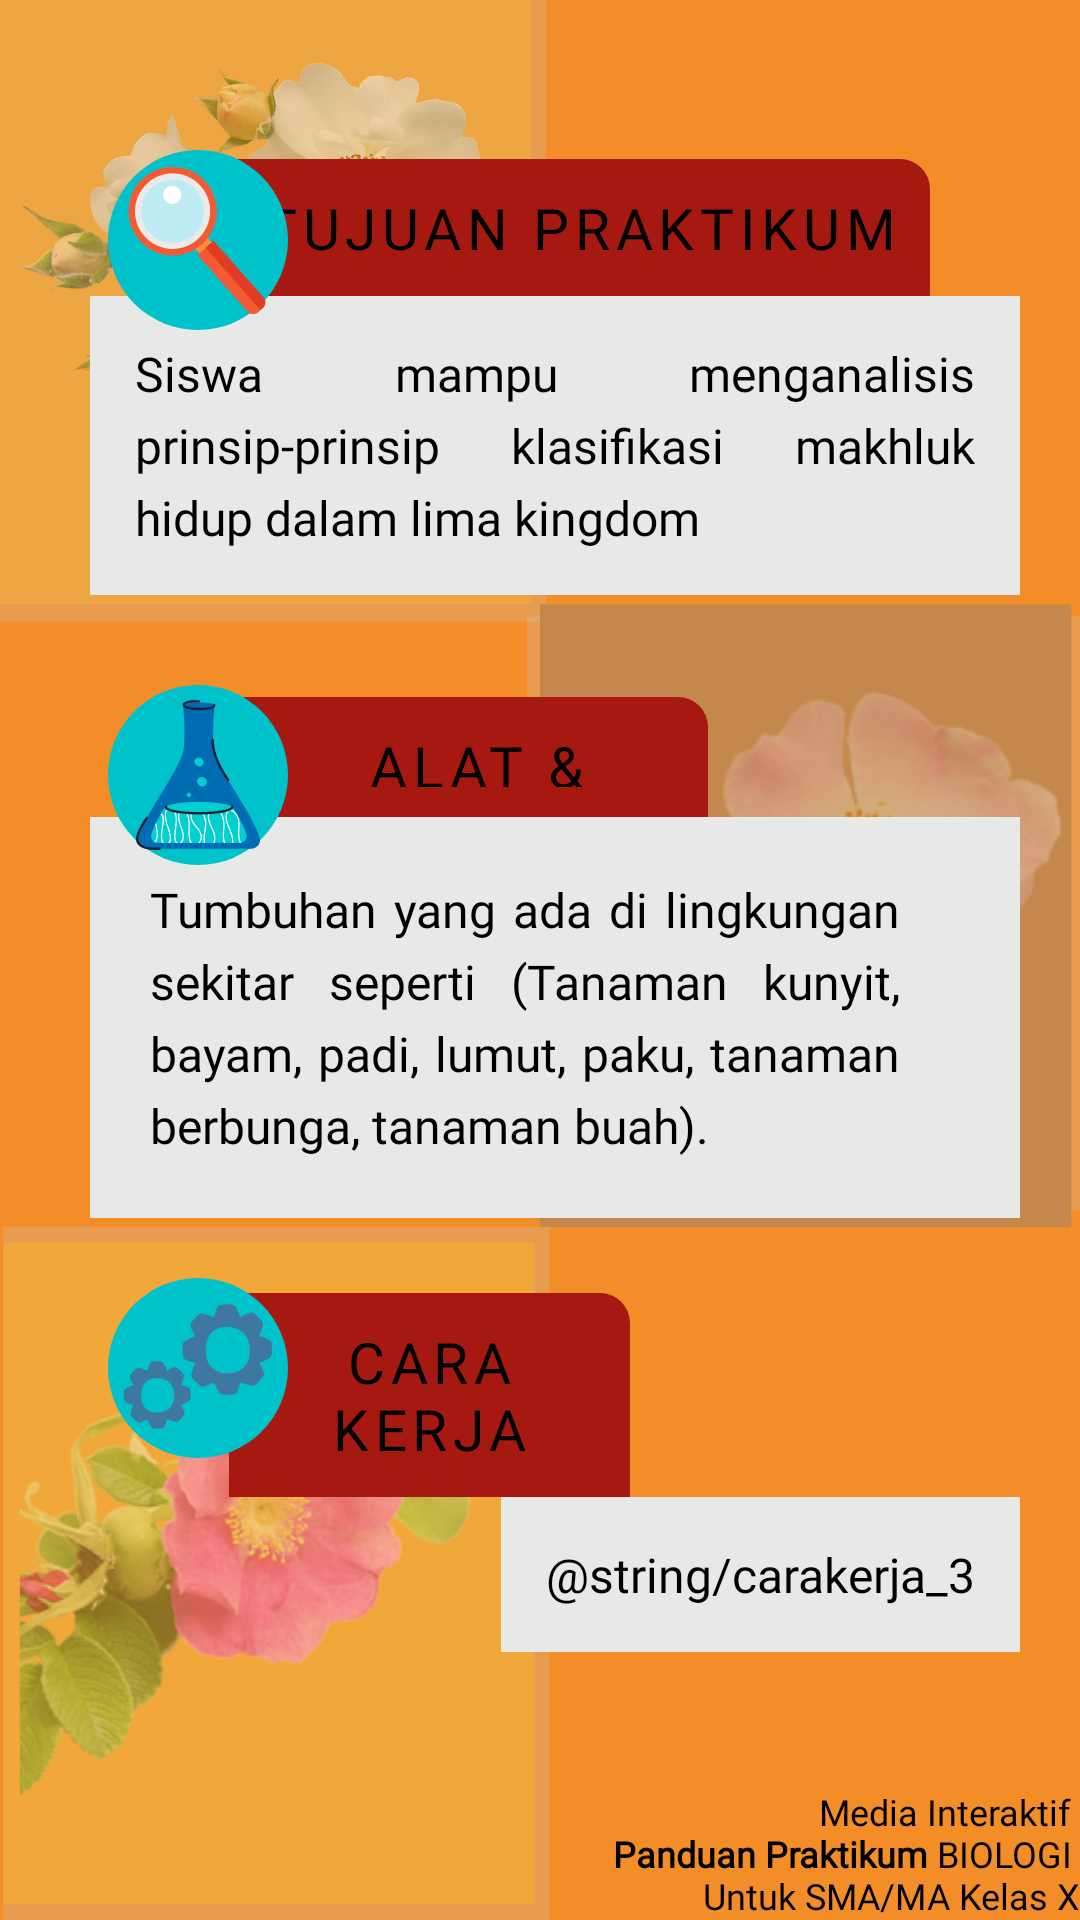

Named icons in this screenshot (1080x1920) and their centers, [x,y]:
alatdanbahan: [198,775]
kacapembesar: [198,240]
